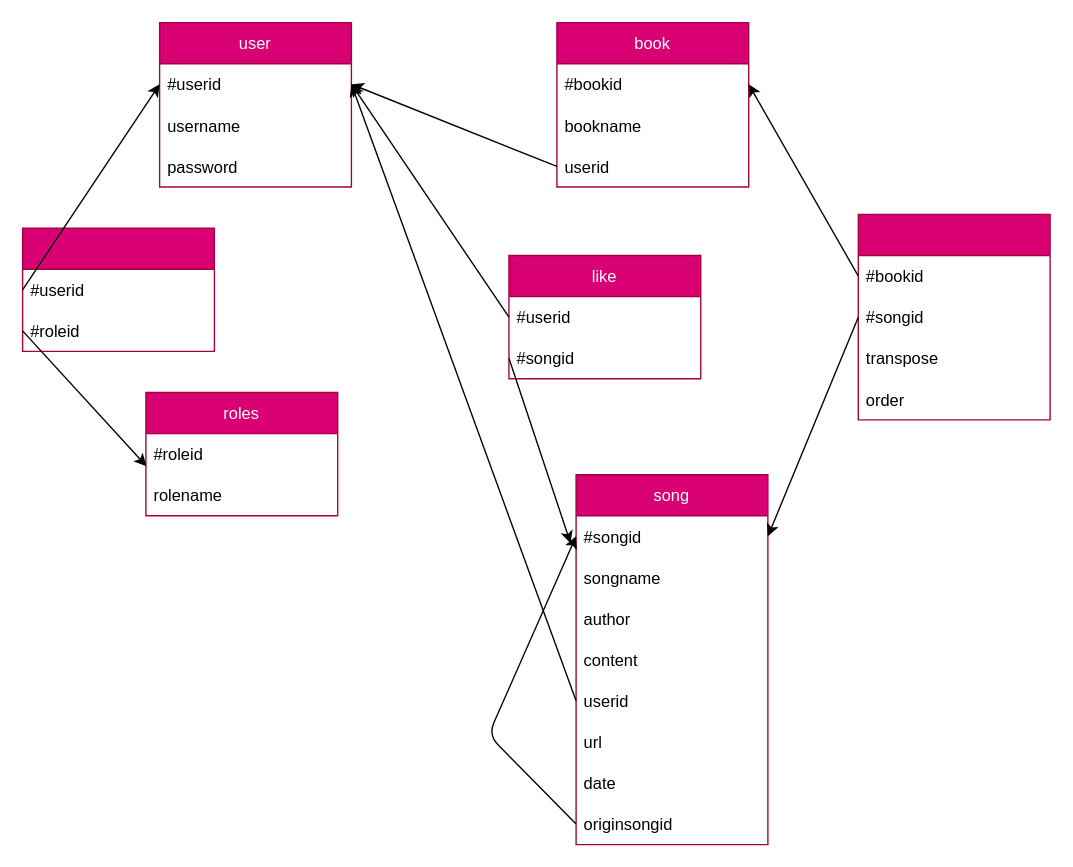
The diagram is 1073 pixels wide and 867 high, and some of its shapes have lost their labels. The box of each missing label's shape, as (x1, y1, x2, y2) in pixels:
book_song: (857, 213, 1050, 420)
role_user: (21, 227, 214, 351)
